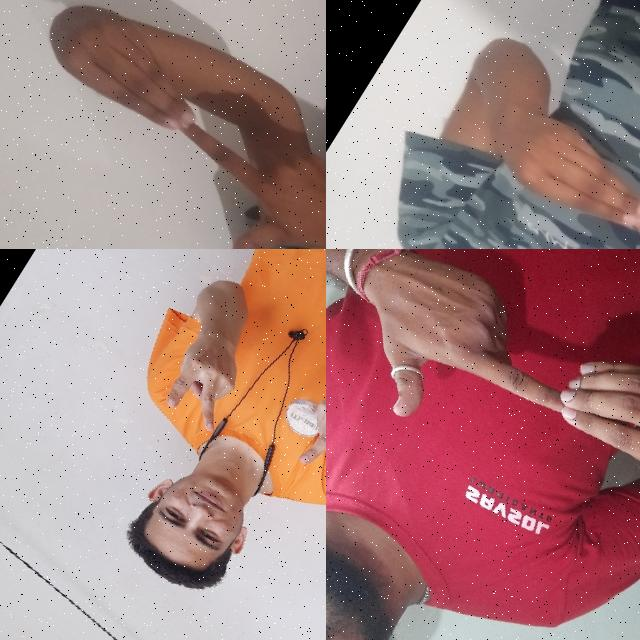Five Fathers: (326, 249, 640, 579), (0, 0, 326, 249), (447, 71, 640, 249)
Reversed Victory: (146, 306, 272, 443), (275, 372, 326, 494)
